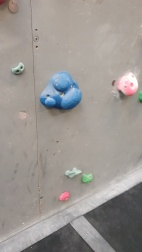Jug: (117, 74, 139, 96)
Sloper: (39, 70, 84, 111)
